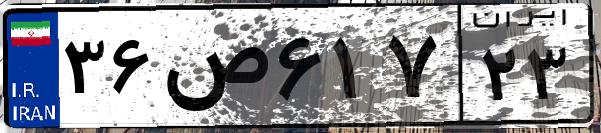1: (330, 28, 385, 110)
2: (475, 38, 525, 113)
3: (57, 26, 110, 100), (525, 38, 570, 115)
6: (270, 28, 330, 110), (110, 28, 158, 98)
7: (385, 28, 445, 110)
ص: (158, 20, 270, 120)
